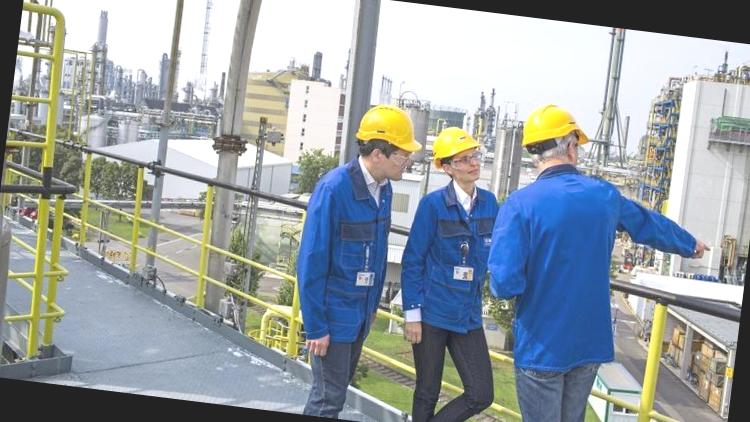helmet: (516, 98, 593, 162), (354, 97, 421, 158), (429, 120, 484, 174)
no_vest: (498, 168, 642, 383), (290, 156, 406, 343), (405, 175, 503, 338)
person: (468, 96, 639, 422), (282, 89, 424, 422), (388, 118, 528, 422)
